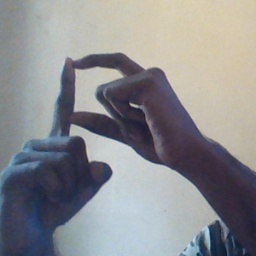D: (32, 43, 162, 167)
